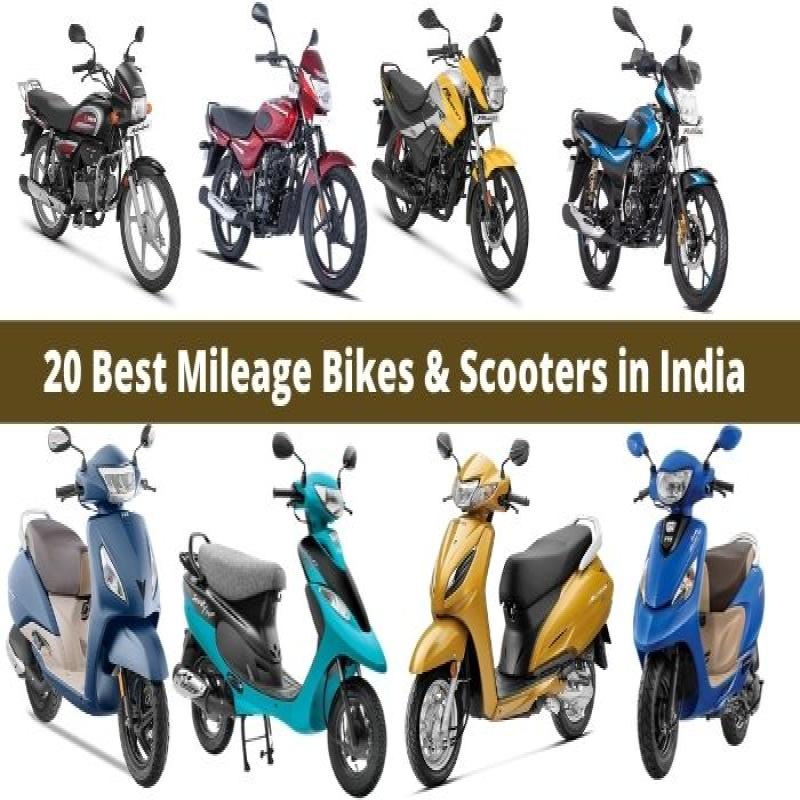bike: (168, 416, 394, 774), (399, 428, 616, 780), (5, 424, 176, 794), (602, 421, 777, 766), (562, 12, 743, 310), (356, 1, 542, 288), (192, 6, 369, 306), (13, 7, 186, 308)
